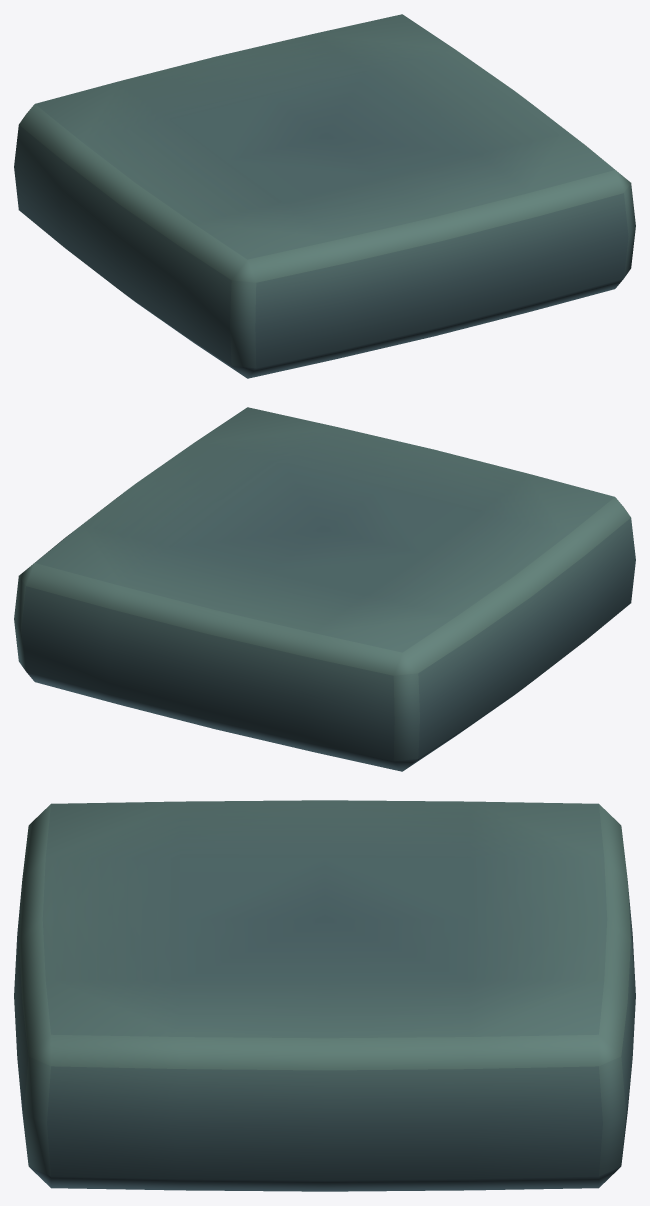
Rendered from cube_05_shade_3_LOD_setup.fbx.
3 views of the same model, one above another, from view 1: azimuth 30°, elevation 25°; view 2: azimuth 150°, elevation 25°; view 3: azimuth 270°, elevation 25° (orthographic). The views are drawn at different scales.
Parts seen in each view (by area): view 1: cube_05_shade_3_LOD0; view 2: cube_05_shade_3_LOD0; view 3: cube_05_shade_3_LOD0.
Part boxes in pixels (box(x1,y1,x2,y2)): cube_05_shade_3_LOD0: box(14, 14, 635, 378); cube_05_shade_3_LOD0: box(14, 407, 635, 771); cube_05_shade_3_LOD0: box(14, 800, 635, 1191).
Size of what is drawn, in the model's own units: 214 by 58.2 by 214.
